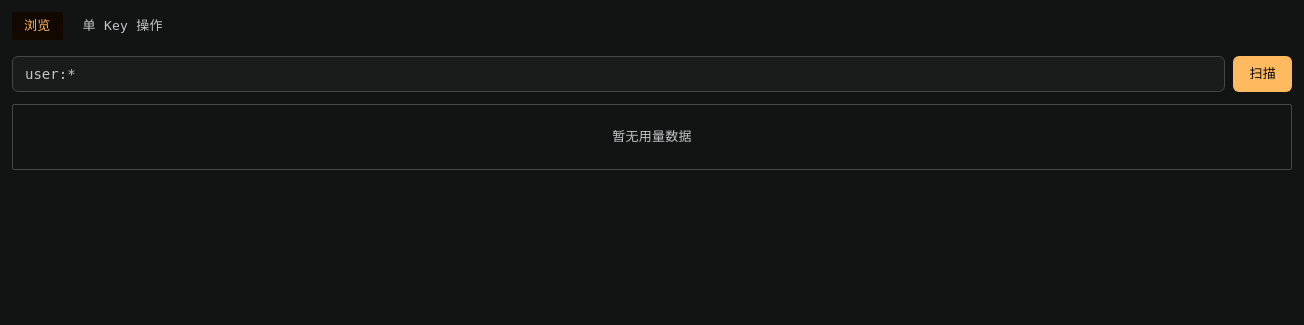
it: KvBrowser › renders browse mode and switches to operate
This screenshot has width=1304, height=325.
Check: the button with test id "kv-mode-browse" is shown, box x1=12 y1=12 x2=62 y2=40
Check: the element with test id "kv-browse" is shown, box x1=12 y1=56 x2=1292 y2=170
What coordinates should you click on to do the following:
click the button with test id "kv-mode-operate"
I would click on:
 (123, 26)
Its box is x1=70 y1=12 x2=175 y2=40.
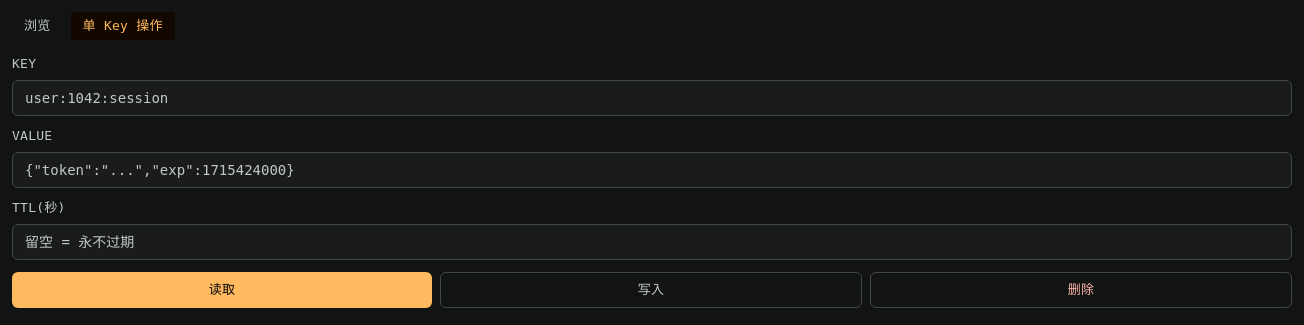
Check: the field with test id "kv-key" is shown, box x1=12 y1=80 x2=1292 y2=116
Check: the field with test id "kv-value" is shown, box x1=12 y1=152 x2=1292 y2=188
Check: the field with test id "kv-ttl" is shown, box x1=12 y1=224 x2=1292 y2=260
